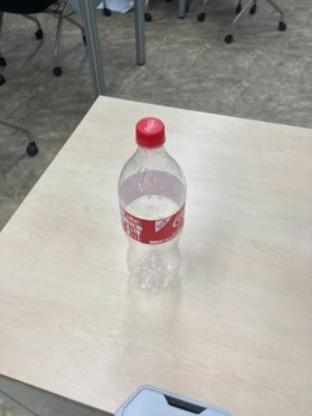Plastic Bottle: (115, 115, 189, 300)
